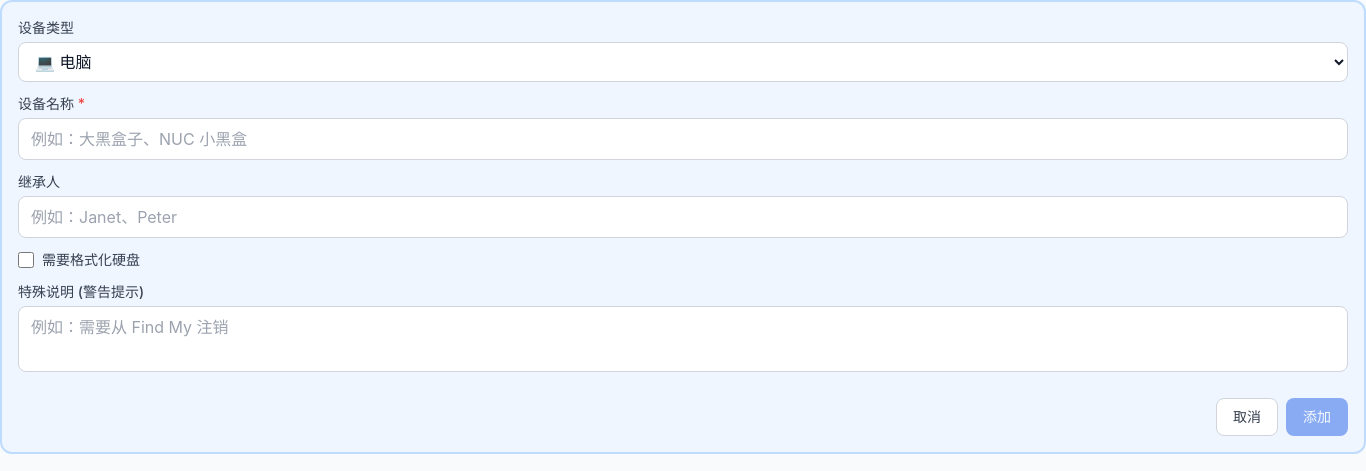
Scenario: DeviceCardForm › Form Submission › should enable submit button when device name is provided
Type "Test Device" into the field with test id "device-name-input" at (683, 139), box [18,118,1348,160]
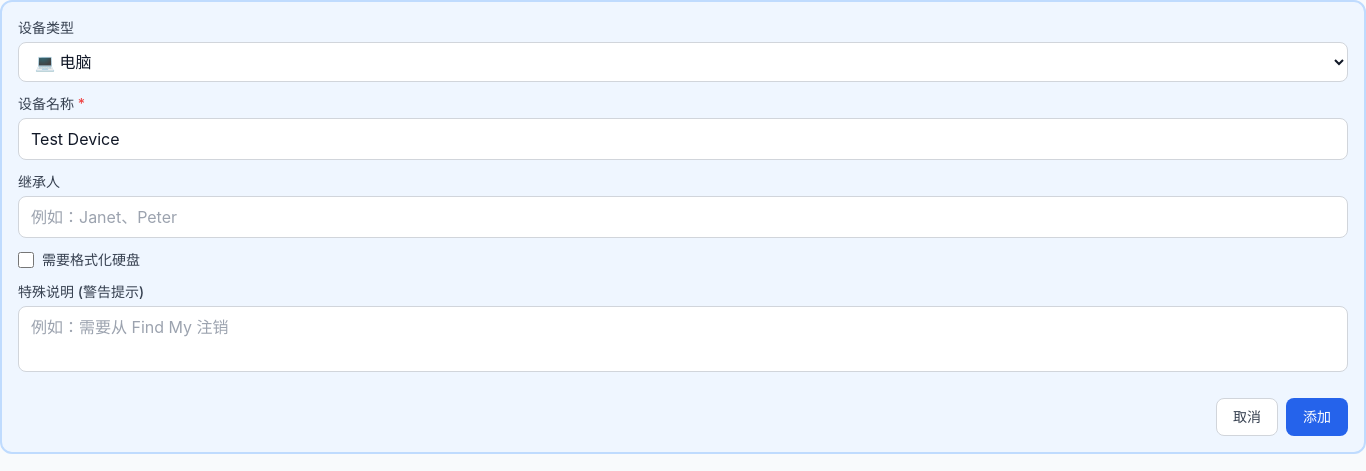
Now the button with test id "device-submit-button" is enabled, box [1286,398,1348,436]
